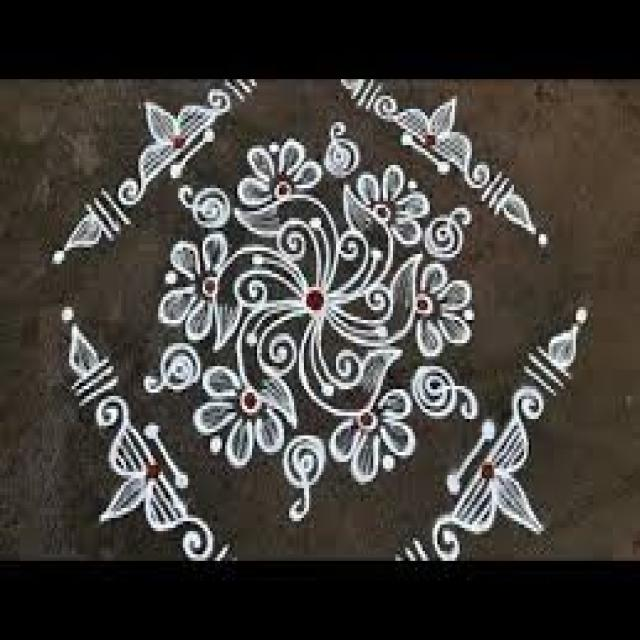rangoli: (46, 83, 552, 524)
